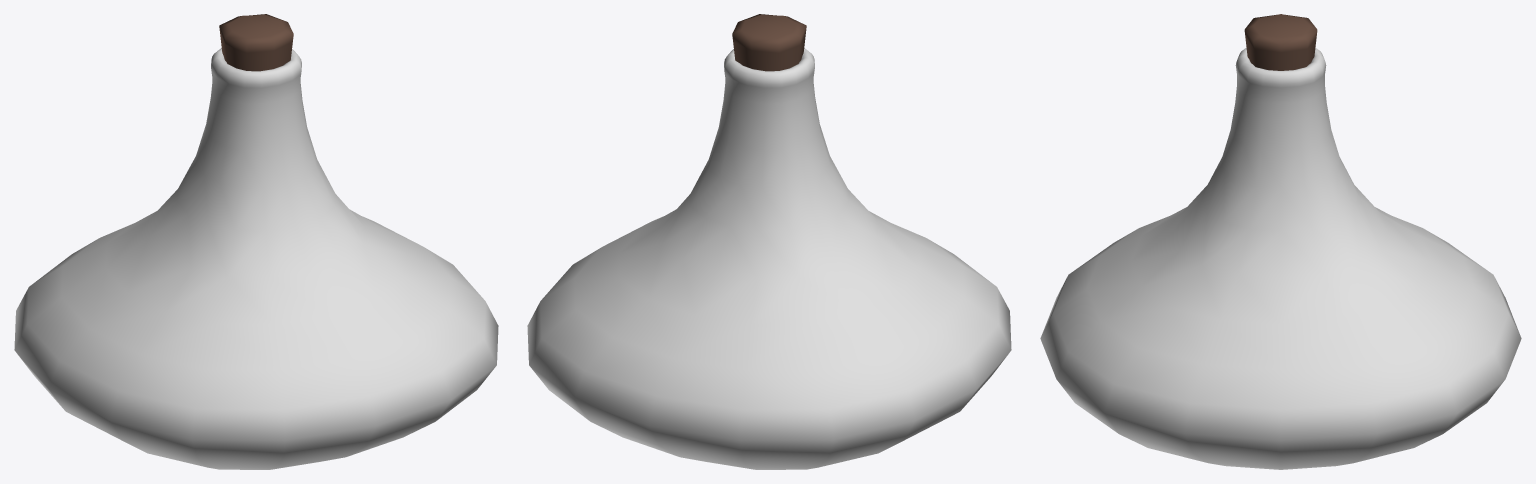
File: Potion8_Filled.glb
3 views of the same model, side by side, from view 1: azimuth 30°, elevation 25°; view 2: azimuth 150°, elevation 25°; view 3: azimuth 270°, elevation 25° (orthographic).
Visible parts, largest first — view 1: Potion8_Filled; view 2: Potion8_Filled; view 3: Potion8_Filled.
Part boxes in pixels (<box>): Potion8_Filled: <box>14,14,498,469</box>; Potion8_Filled: <box>527,14,1011,469</box>; Potion8_Filled: <box>1040,14,1521,469</box>.
Size of the model in its own units: 0.7035 by 0.6821 by 0.7035.
